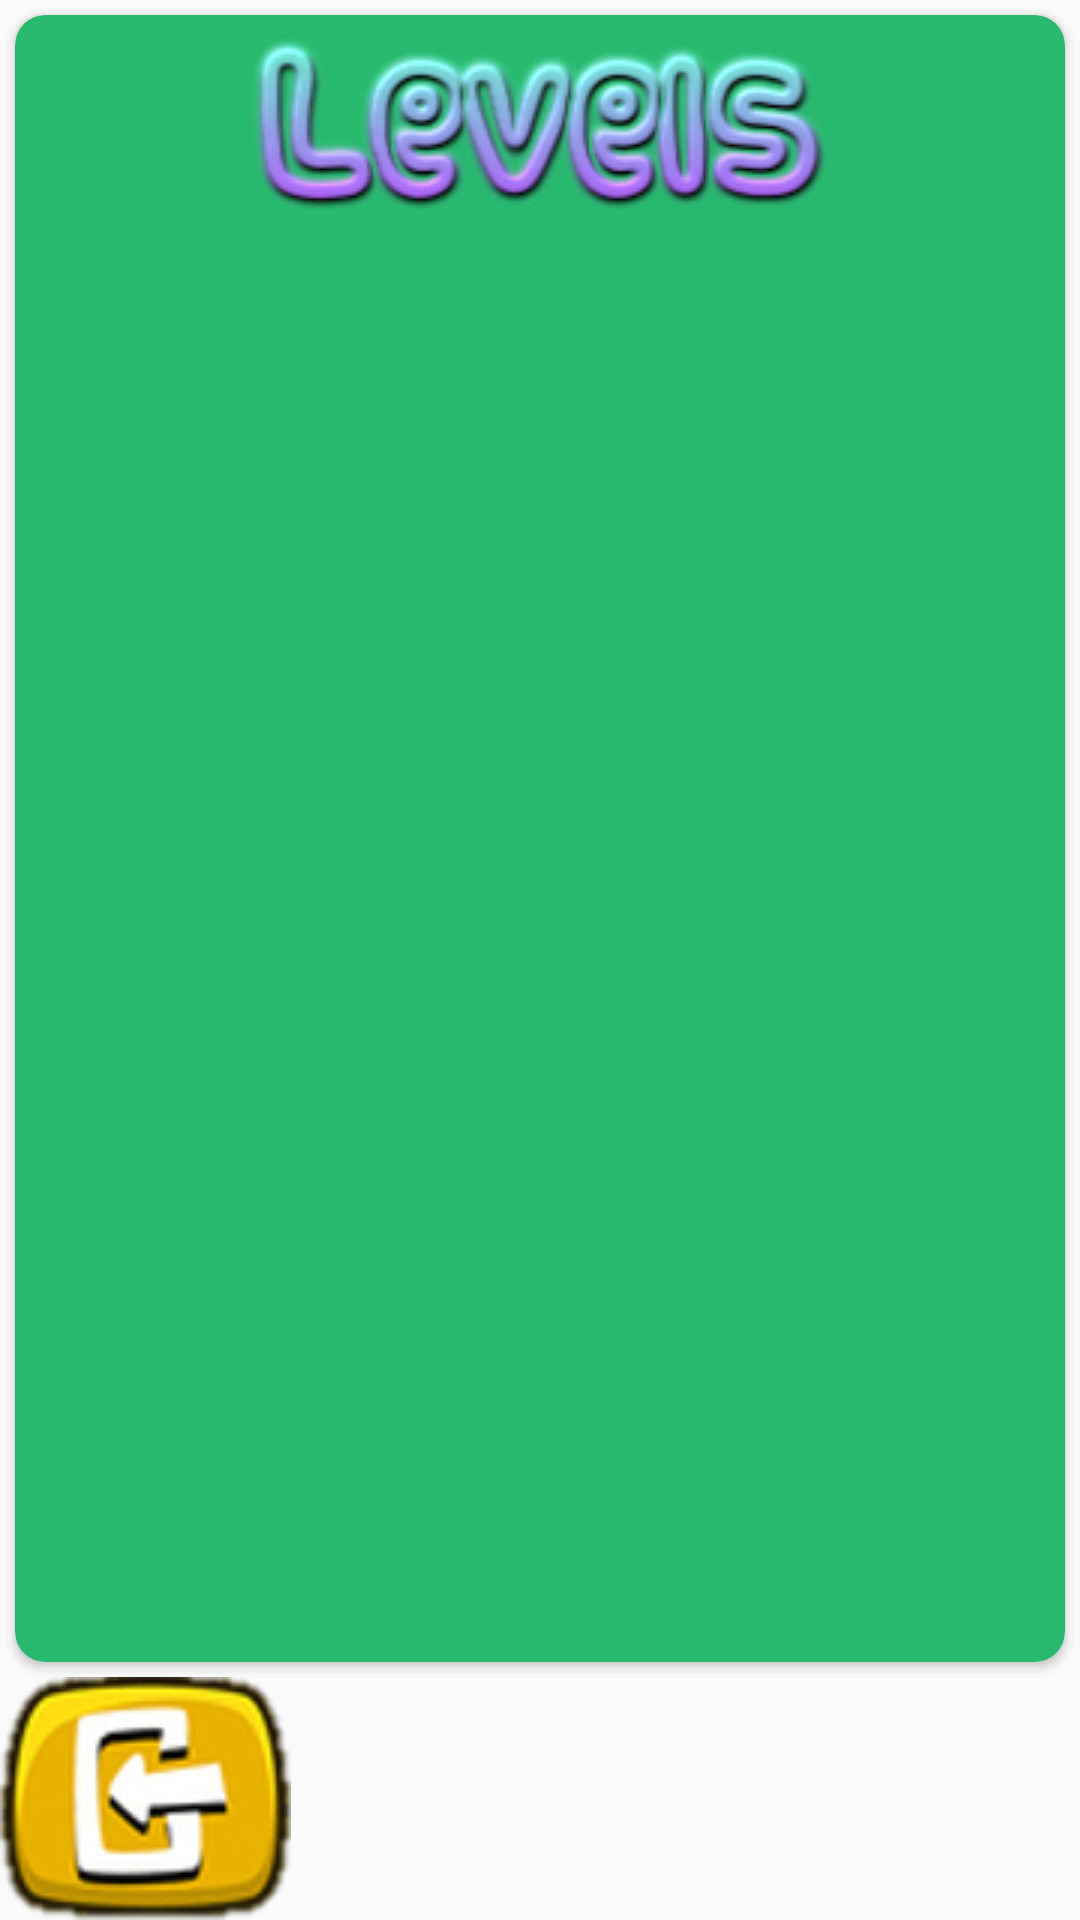

Icon bounding boxes for this 1080w x 1920h phone screenshot, format (x1, y1, x2, y2):
returnbtn: (0, 1677, 291, 1920)
